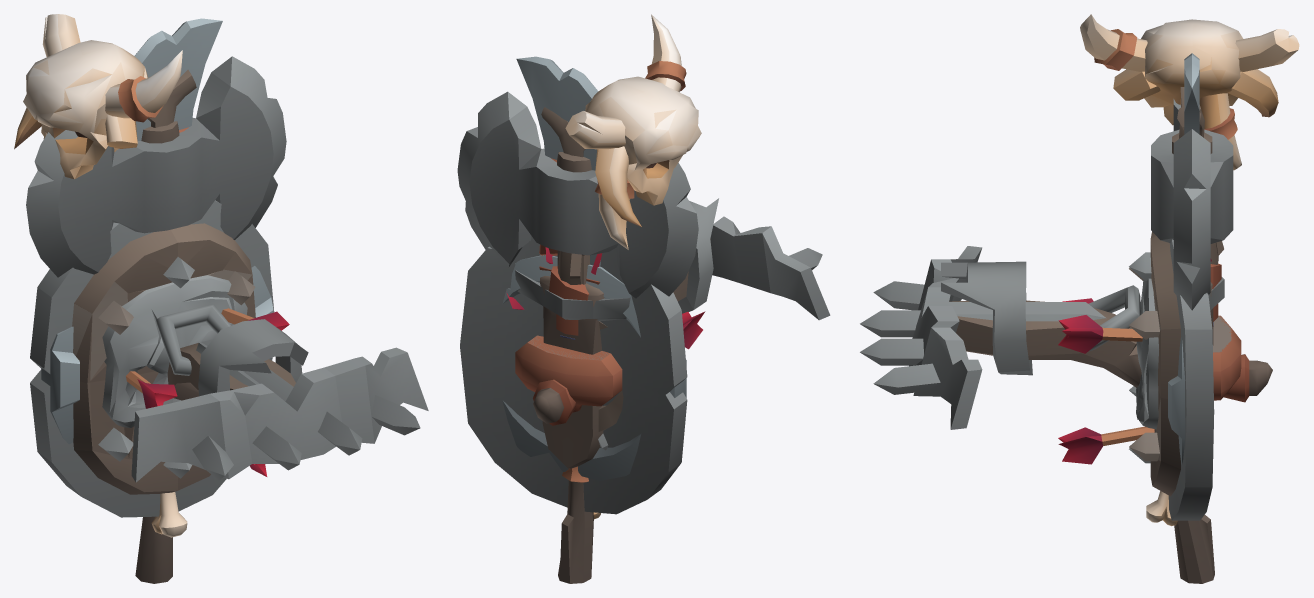
The model's file is pack_weapons_skeletons.glb.
3 views of the same model, side by side, from view 1: azimuth 30°, elevation 25°; view 2: azimuth 150°, elevation 25°; view 3: azimuth 270°, elevation 25° (orthographic). The views are drawn at different scales.
Parts seen in each view (by area): view 1: Skeleton_Crossbow, Skeleton_Axe, Skeleton_Shield_Large_A, Skeleton_Staff, Skeleton_Shield_Large_B, Skeleton_Blade, Skeleton_Shield_Small_A, Skeleton_Shield_Small_B; view 2: Skeleton_Shield_Large_A, Skeleton_Axe, Skeleton_Staff, Skeleton_Shield_Large_B, Skeleton_Crossbow, Skeleton_Blade, Skeleton_Shield_Small_A, Skeleton_Quiver, Skeleton_Shield_Small_B; view 3: Skeleton_Crossbow, Skeleton_Staff, Skeleton_Shield_Large_A, Skeleton_Axe, Skeleton_Shield_Large_B, Skeleton_Shield_Small_B, Skeleton_Blade, Skeleton_Shield_Small_A.
Boxes of the visible parts, bbox=[...] form: Skeleton_Crossbow: bbox=[131, 304, 428, 482]; Skeleton_Axe: bbox=[26, 56, 286, 277]; Skeleton_Shield_Large_A: bbox=[30, 200, 273, 517]; Skeleton_Staff: bbox=[14, 14, 196, 583]; Skeleton_Shield_Large_B: bbox=[30, 208, 274, 517]; Skeleton_Blade: bbox=[134, 18, 222, 140]; Skeleton_Shield_Small_A: bbox=[41, 266, 273, 444]; Skeleton_Shield_Small_B: bbox=[126, 308, 289, 476]; Skeleton_Shield_Large_A: bbox=[460, 237, 687, 514]; Skeleton_Axe: bbox=[457, 91, 698, 335]; Skeleton_Staff: bbox=[541, 14, 701, 583]; Skeleton_Shield_Large_B: bbox=[461, 236, 687, 507]; Skeleton_Crossbow: bbox=[533, 198, 830, 425]; Skeleton_Blade: bbox=[515, 56, 630, 450]; Skeleton_Shield_Small_A: bbox=[502, 255, 686, 480]; Skeleton_Quiver: bbox=[540, 247, 604, 468]; Skeleton_Shield_Small_B: bbox=[682, 311, 705, 349]; Skeleton_Crossbow: bbox=[860, 246, 1272, 429]; Skeleton_Staff: bbox=[1080, 14, 1299, 583]; Skeleton_Shield_Large_A: bbox=[1136, 236, 1241, 520]; Skeleton_Axe: bbox=[1151, 99, 1233, 321]; Skeleton_Shield_Large_B: bbox=[1129, 231, 1231, 481]; Skeleton_Shield_Small_B: bbox=[1058, 298, 1154, 464]; Skeleton_Blade: bbox=[1184, 53, 1224, 310]; Skeleton_Shield_Small_A: bbox=[1168, 337, 1185, 464].
Bounding box in the file's own units: 1.11 × 2.1 × 1.51.
1 material, 1 textured.
